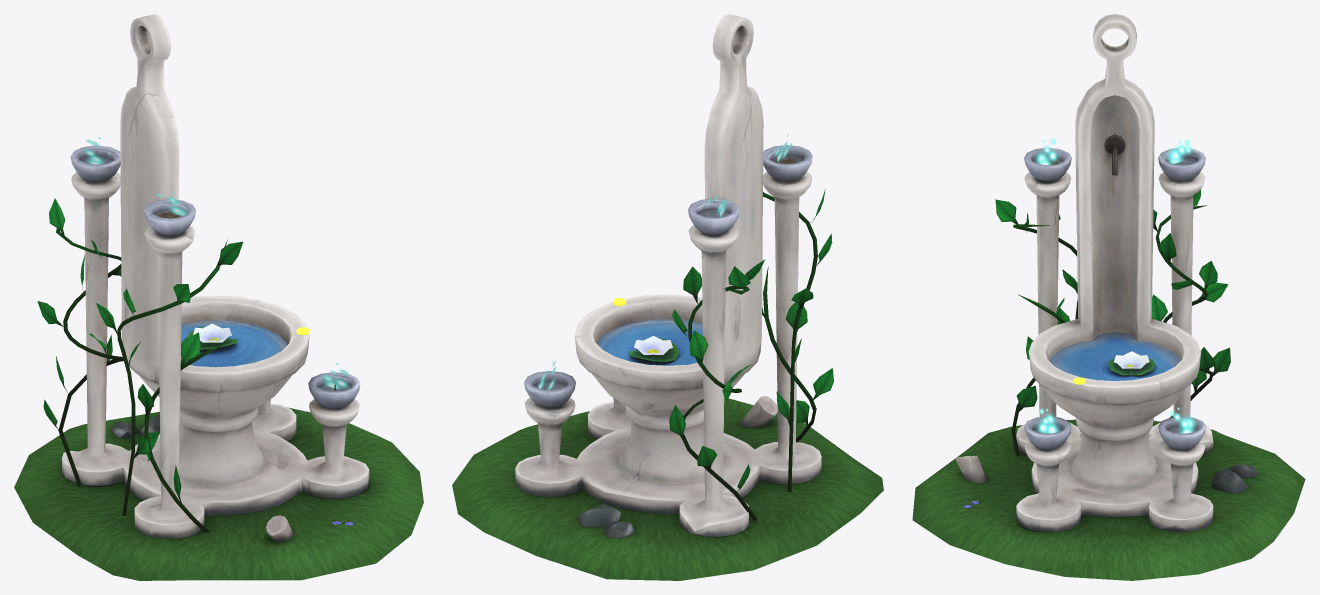
3 renders of one model, left to right at view 1: azimuth 30°, elevation 25°; view 2: azimuth 150°, elevation 25°; view 3: azimuth 270°, elevation 25°, orthographic. The views are drawn at different scales.
Parts seen in each view (by area): view 1: shrine_86, ground_93, vine right_91, vine left_90, rubble_89; view 2: shrine_86, ground_93, vine right_91, vine left_90, rubble_89, stone 1_87; view 3: shrine_86, ground_93, vine left_90, vine right_91, stone 1_87, rubble_89.
Boxes of the visible parts, x1,y1,x2,y2 form: shrine_86: (62, 14, 369, 538); ground_93: (14, 407, 423, 580); vine right_91: (96, 240, 243, 532); vine left_90: (37, 198, 123, 486); rubble_89: (266, 515, 293, 541); shrine_86: (515, 14, 821, 536); ground_93: (452, 398, 883, 580); vine right_91: (762, 188, 833, 491); vine left_90: (669, 259, 764, 520); rubble_89: (740, 396, 777, 427); stone 1_87: (576, 504, 620, 527); shrine_86: (1016, 14, 1213, 532); ground_93: (912, 419, 1305, 580); vine left_90: (1152, 189, 1230, 417); vine right_91: (995, 199, 1077, 455); stone 1_87: (1212, 468, 1248, 493); rubble_89: (955, 455, 986, 483).
Bounding box in the file's own units: 7.84 × 10.5 × 8.29.
3 materials, 3 textured.
